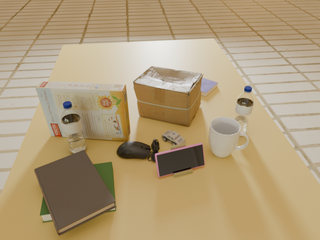book: (34, 150, 116, 236), (201, 78, 218, 97)
bottle: (61, 101, 86, 154), (234, 86, 254, 133)
box: (36, 81, 130, 141), (133, 66, 203, 126)
cup: (209, 117, 249, 157)
mouse: (117, 138, 159, 161)
phone: (155, 143, 205, 177)
toy_car: (162, 130, 186, 145)
